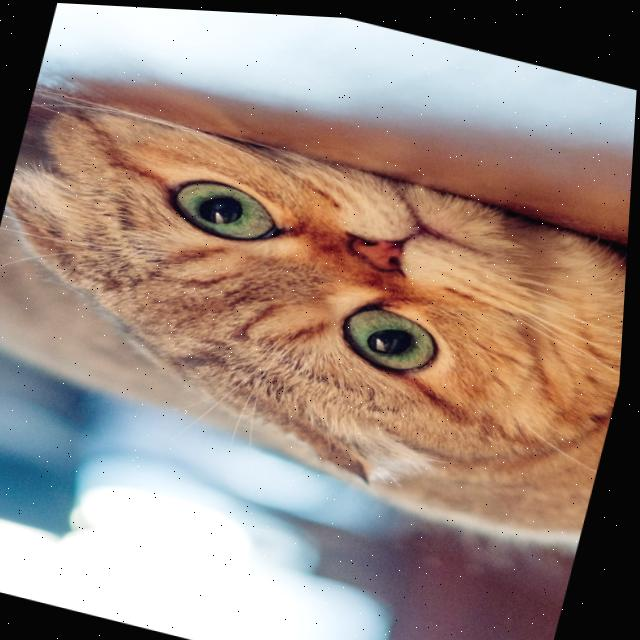Scottish Fold: (0, 76, 636, 554)
